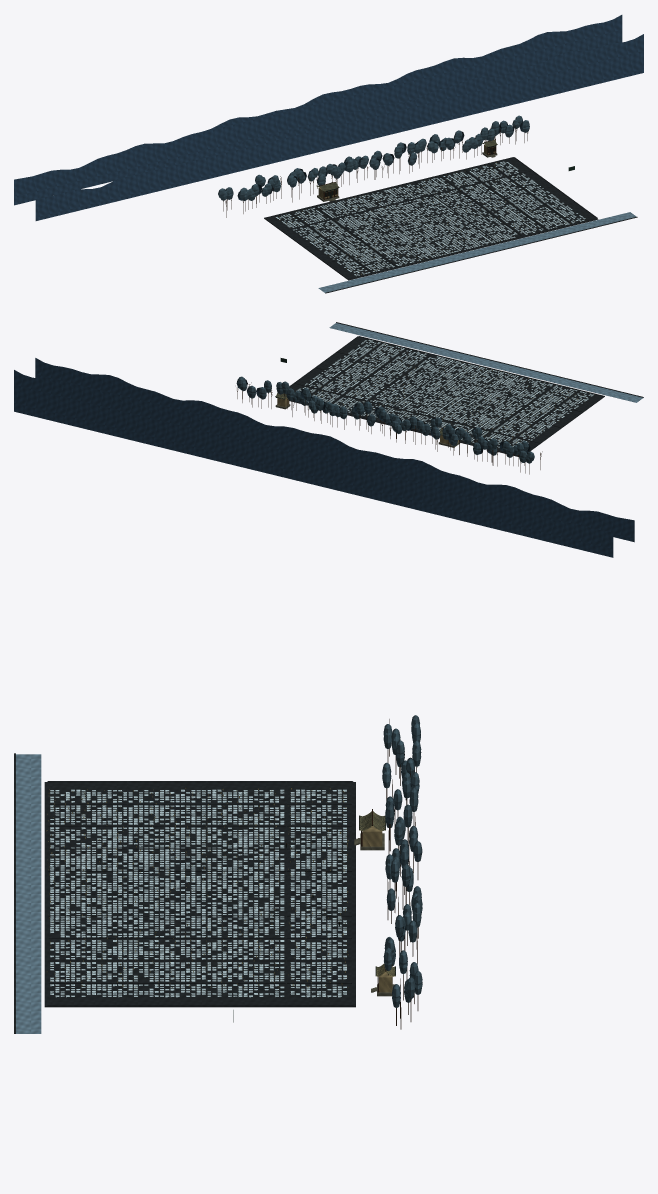
File: JingXi_Aligned_Winter.glb
3 views of the same model, one above another, from view 1: azimuth 30°, elevation 25°; view 2: azimuth 150°, elevation 25°; view 3: azimuth 270°, elevation 25° (orthographic). The views are drawn at different scales.
Parts seen in each view (by area): view 1: Winter_MountainRidge_mountain, Winter_FieldEarth_earth, Winter_PatchSnow_snow, Winter_TreeCrowns_crown, Winter_YuquanCanal_water, Winter_CrossBanks_earth, Winter_FieldBanks_earth, Winter_TreeTrunks_wood, Winter_Rice_Stubble_leaf, Winter_NearBank_earth, Winter_TreeCrowns_leaf; view 2: Winter_MountainRidge_mountain, Winter_FieldEarth_earth, Winter_PatchSnow_snow, Winter_TreeCrowns_crown, Winter_YuquanCanal_water, Winter_CrossBanks_earth, Winter_FieldBanks_earth, Winter_TreeTrunks_wood, Winter_NearBank_earth, Winter_Rice_Stubble_leaf, Winter_TreeCrowns_leaf; view 3: Winter_FieldEarth_earth, Winter_PatchSnow_snow, Winter_YuquanCanal_water, Winter_TreeCrowns_crown, Winter_FieldBanks_earth, Winter_CrossBanks_earth, Winter_Rice_Stubble_leaf, Winter_TreeTrunks_wood.
Part boxes in pixels (x1,y1,x2,y2): Winter_MountainRidge_mountain: (14, 15, 643, 220); Winter_FieldEarth_earth: (264, 157, 598, 280); Winter_PatchSnow_snow: (275, 161, 585, 276); Winter_TreeCrowns_crown: (218, 115, 529, 200); Winter_YuquanCanal_water: (318, 212, 636, 292); Winter_CrossBanks_earth: (265, 157, 596, 278); Winter_FieldBanks_earth: (264, 157, 597, 279); Winter_TreeTrunks_wood: (223, 126, 527, 217); Winter_Rice_Stubble_leaf: (279, 162, 574, 275); Winter_NearBank_earth: (325, 217, 637, 293); Winter_TreeCrowns_leaf: (225, 120, 522, 200); Winter_MountainRidge_mountain: (14, 358, 634, 557); Winter_FieldEarth_earth: (275, 336, 604, 456); Winter_PatchSnow_snow: (296, 339, 593, 447); Winter_TreeCrowns_crown: (237, 376, 534, 463); Winter_YuquanCanal_water: (329, 323, 643, 402); Winter_CrossBanks_earth: (294, 336, 603, 455); Winter_FieldBanks_earth: (289, 336, 604, 451); Winter_TreeTrunks_wood: (237, 384, 540, 474); Winter_NearBank_earth: (336, 322, 643, 397); Winter_Rice_Stubble_leaf: (313, 342, 589, 446); Winter_TreeCrowns_leaf: (236, 379, 530, 455); Winter_FieldEarth_earth: (44, 782, 355, 1007); Winter_PatchSnow_snow: (50, 789, 346, 997); Winter_YuquanCanal_water: (16, 754, 41, 1033); Winter_TreeCrowns_crown: (382, 715, 422, 1007); Winter_FieldBanks_earth: (48, 781, 352, 1006); Winter_CrossBanks_earth: (47, 781, 353, 1005); Winter_Rice_Stubble_leaf: (46, 788, 348, 988); Winter_TreeTrunks_wood: (386, 748, 418, 1029).
Size of the model in its own units: 195 by 13.26 by 95.15.
Materials: 16 (16 with a texture image).
